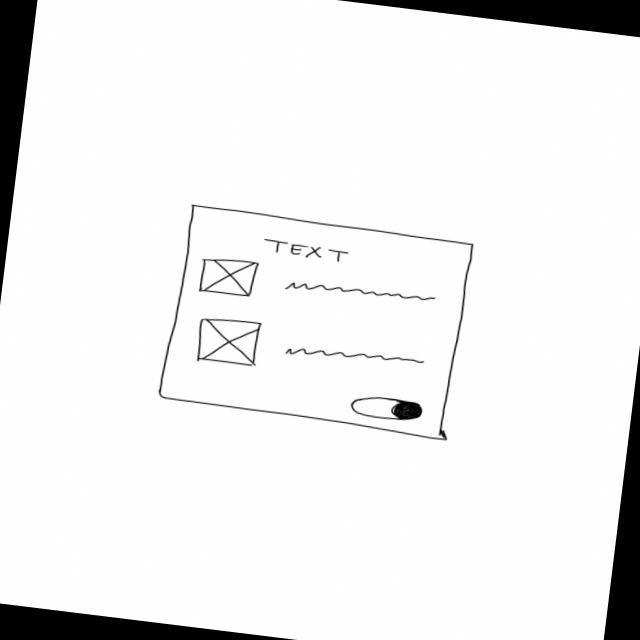container: (154, 200, 477, 442)
image: (194, 313, 263, 369), (194, 254, 262, 298)
label: (260, 236, 352, 267)
text: (281, 276, 439, 309), (281, 340, 428, 374)
toggle: (347, 391, 426, 424)
